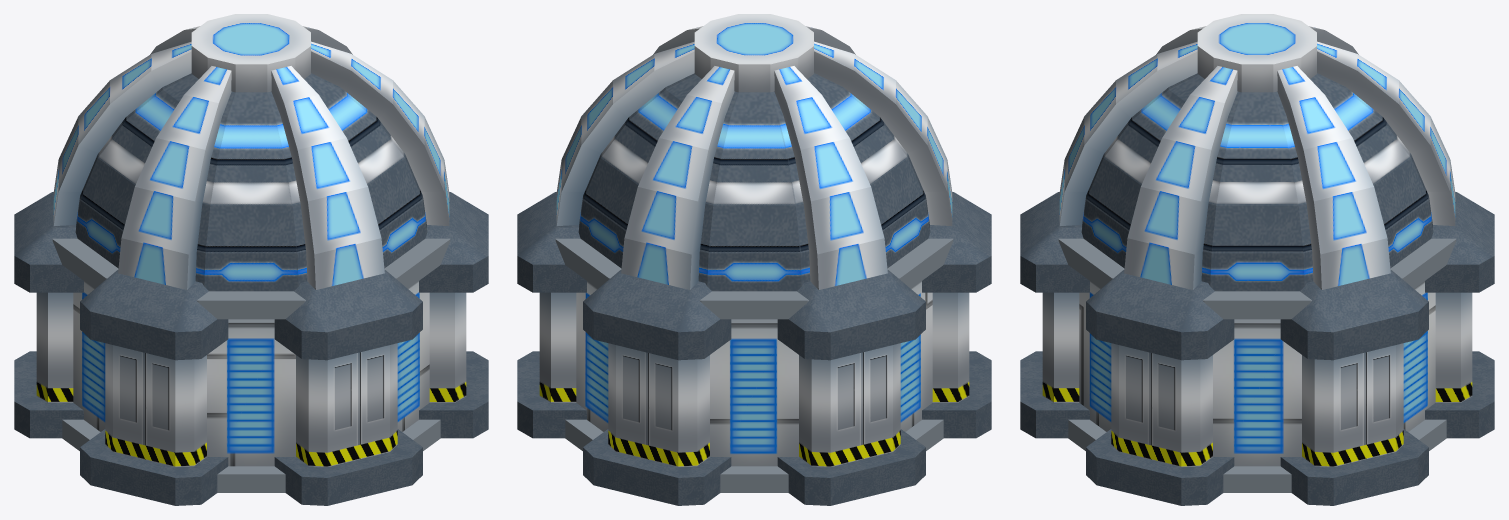
The model's file is Techno Lab.fbx.
3 views of the same model, side by side, from view 1: azimuth 30°, elevation 25°; view 2: azimuth 150°, elevation 25°; view 3: azimuth 270°, elevation 25° (orthographic).
Visible parts, largest first — view 1: Connector (×4), Roof, Power_Mid (×4), Power_TOp (×4), Power_Base (×4), Base, TOp_Ligh, Base1, Mid; view 2: Connector (×4), Roof, Power_Mid (×4), Power_TOp (×4), Power_Base (×4), Base, TOp_Ligh, Base1, Mid; view 3: Connector (×4), Roof, Power_Mid (×4), Power_TOp (×4), Power_Base (×4), Base, TOp_Ligh, Base1, Mid.
Boxes of the visible parts, bbox=[...] form: Connector (×4): bbox=[53, 41, 449, 289]; Roof: bbox=[75, 73, 427, 291]; Power_Mid (×4): bbox=[36, 292, 466, 466]; Power_TOp (×4): bbox=[14, 192, 488, 360]; Power_Base (×4): bbox=[14, 351, 488, 505]; Base: bbox=[73, 281, 429, 466]; TOp_Ligh: bbox=[191, 14, 310, 92]; Base1: bbox=[52, 238, 450, 319]; Mid: bbox=[62, 419, 440, 492]; Connector (×4): bbox=[556, 41, 952, 289]; Roof: bbox=[578, 73, 930, 291]; Power_Mid (×4): bbox=[539, 292, 969, 466]; Power_TOp (×4): bbox=[517, 192, 991, 360]; Power_Base (×4): bbox=[517, 351, 991, 505]; Base: bbox=[576, 281, 932, 466]; TOp_Ligh: bbox=[694, 14, 813, 92]; Base1: bbox=[555, 238, 953, 319]; Mid: bbox=[565, 419, 943, 492]; Connector (×4): bbox=[1059, 41, 1455, 289]; Roof: bbox=[1081, 73, 1433, 291]; Power_Mid (×4): bbox=[1042, 292, 1472, 466]; Power_TOp (×4): bbox=[1020, 192, 1494, 360]; Power_Base (×4): bbox=[1020, 351, 1494, 505]; Base: bbox=[1079, 281, 1435, 466]; TOp_Ligh: bbox=[1197, 14, 1316, 92]; Base1: bbox=[1058, 238, 1456, 319]; Mid: bbox=[1068, 419, 1446, 492].
Bounding box in the file's own units: 4.46 × 3.96 × 4.6.
